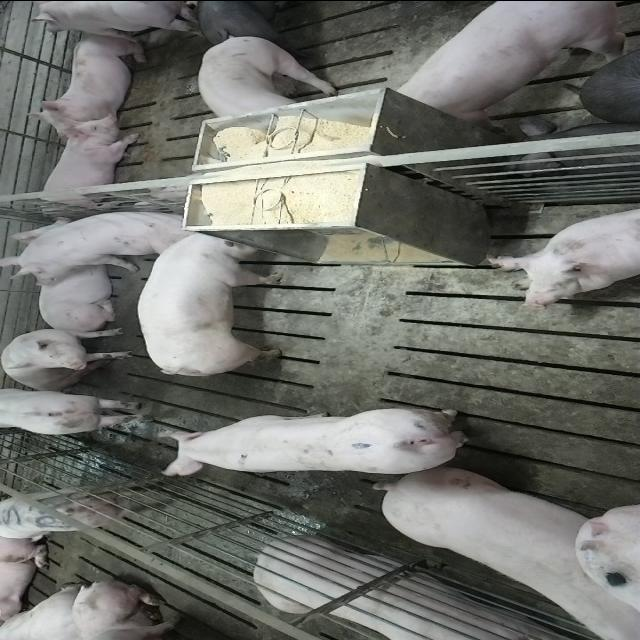Feeding: (140, 225, 290, 371)
Sitting: (0, 207, 187, 282), (1, 325, 132, 390)
Standing: (390, 2, 630, 124), (157, 406, 480, 478), (198, 34, 340, 120), (2, 482, 156, 539), (2, 388, 154, 438), (24, 0, 200, 33), (193, 0, 309, 43)
Sternal_lying: (249, 538, 582, 640), (483, 202, 640, 308), (21, 30, 146, 136), (28, 118, 140, 216), (23, 256, 122, 330)
